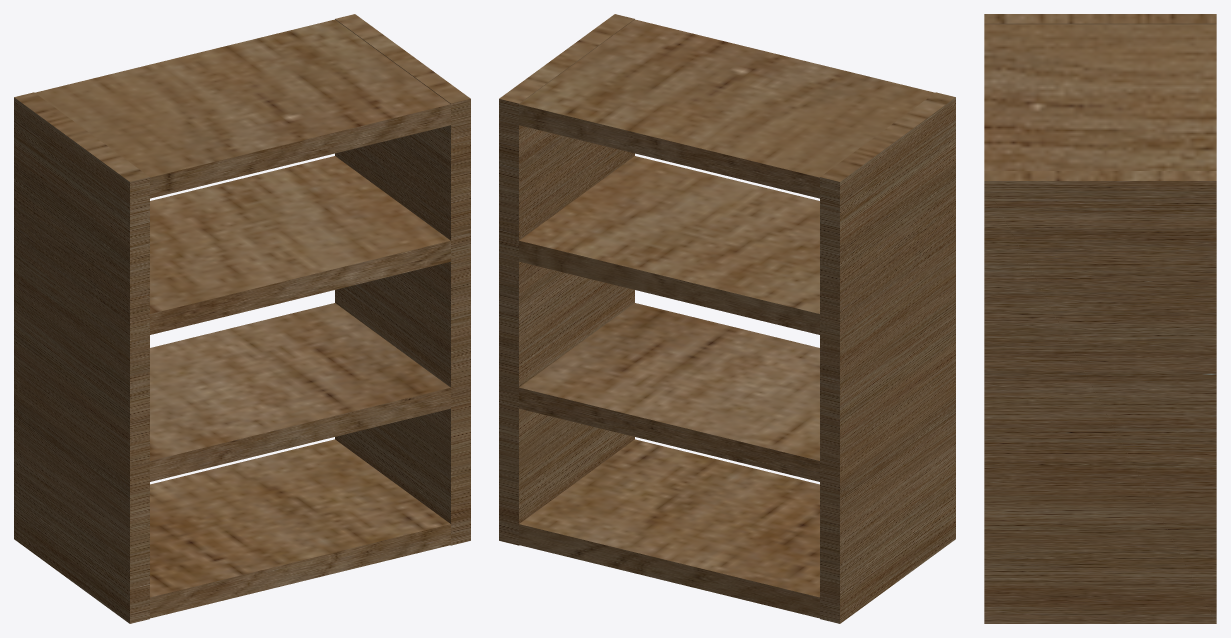
Rendered from shelf.gltf.
The picture shows the model from 3 angles, left to right: view 1: azimuth 30°, elevation 25°; view 2: azimuth 150°, elevation 25°; view 3: azimuth 270°, elevation 25°; orthographic projection.
Visible parts, largest first — view 1: Cube.008; view 2: Cube.008; view 3: Cube.008.
Part boxes in pixels (<box>): Cube.008: <box>14,14,470,623</box>; Cube.008: <box>499,14,955,623</box>; Cube.008: <box>984,14,1216,623</box>.
Size of the model in its own units: 0.34 by 0.4211 by 0.2.
Materials: 1 (1 with a texture image).
